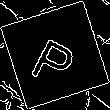P_NE: (27, 24, 83, 86)
